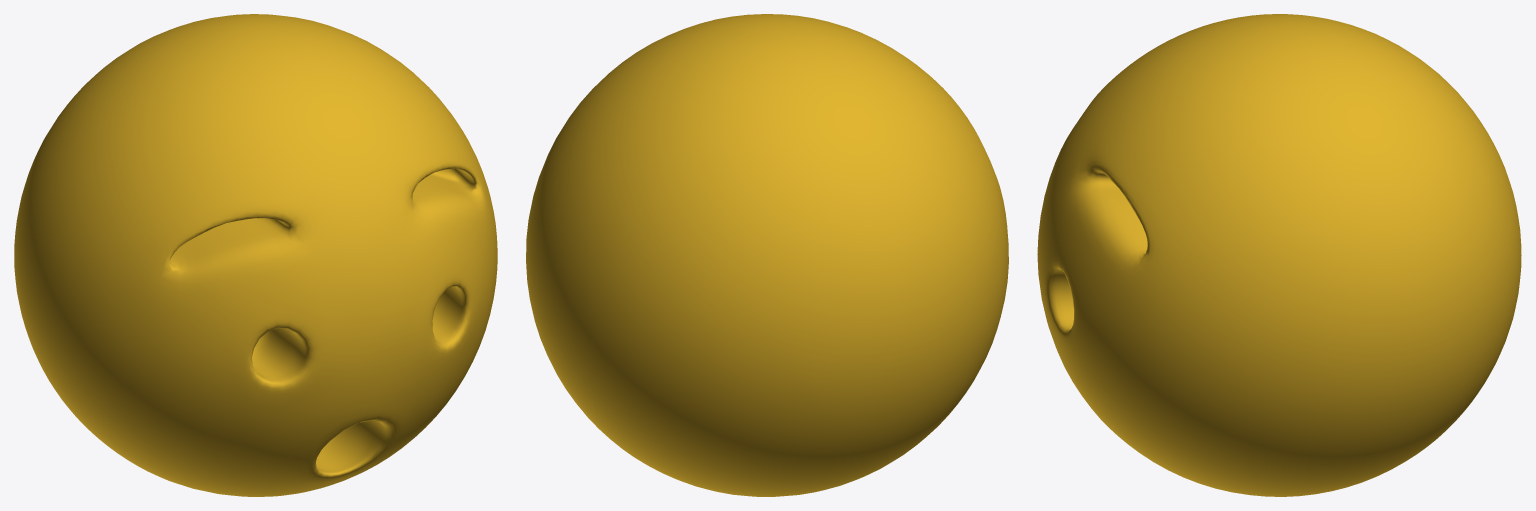
File: no_mouth.glb
The picture shows the model from 3 angles, left to right: view 1: azimuth 30°, elevation 25°; view 2: azimuth 150°, elevation 25°; view 3: azimuth 270°, elevation 25°; orthographic projection.
Parts seen in each view (by area): view 1: Group18920; view 2: Group18920; view 3: Group18920.
Boxes of the visible parts, bbox=[...] form: Group18920: bbox=[14, 14, 497, 496]; Group18920: bbox=[526, 14, 1008, 496]; Group18920: bbox=[1037, 14, 1521, 496].
Bounding box in the file's own units: 0.5146 × 0.5144 × 0.5157.
